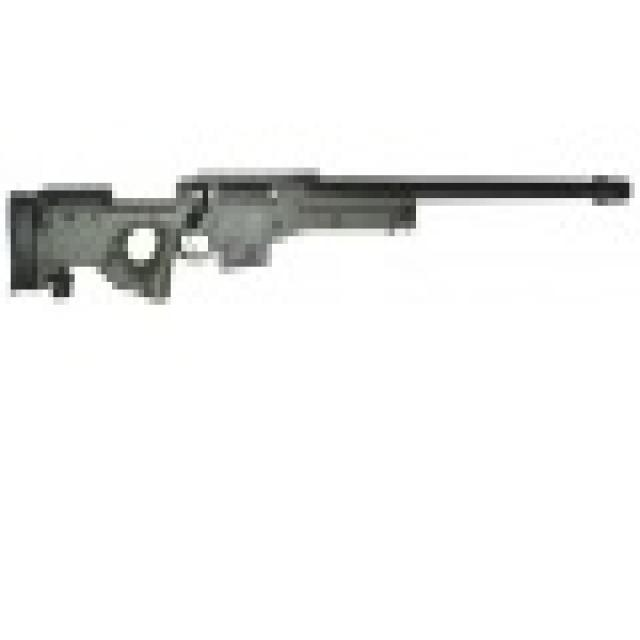Gun: (14, 124, 637, 286)
